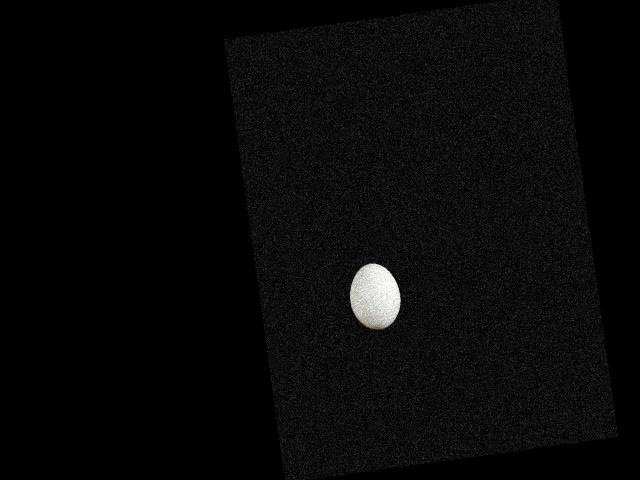egg: (346, 260, 405, 333)
